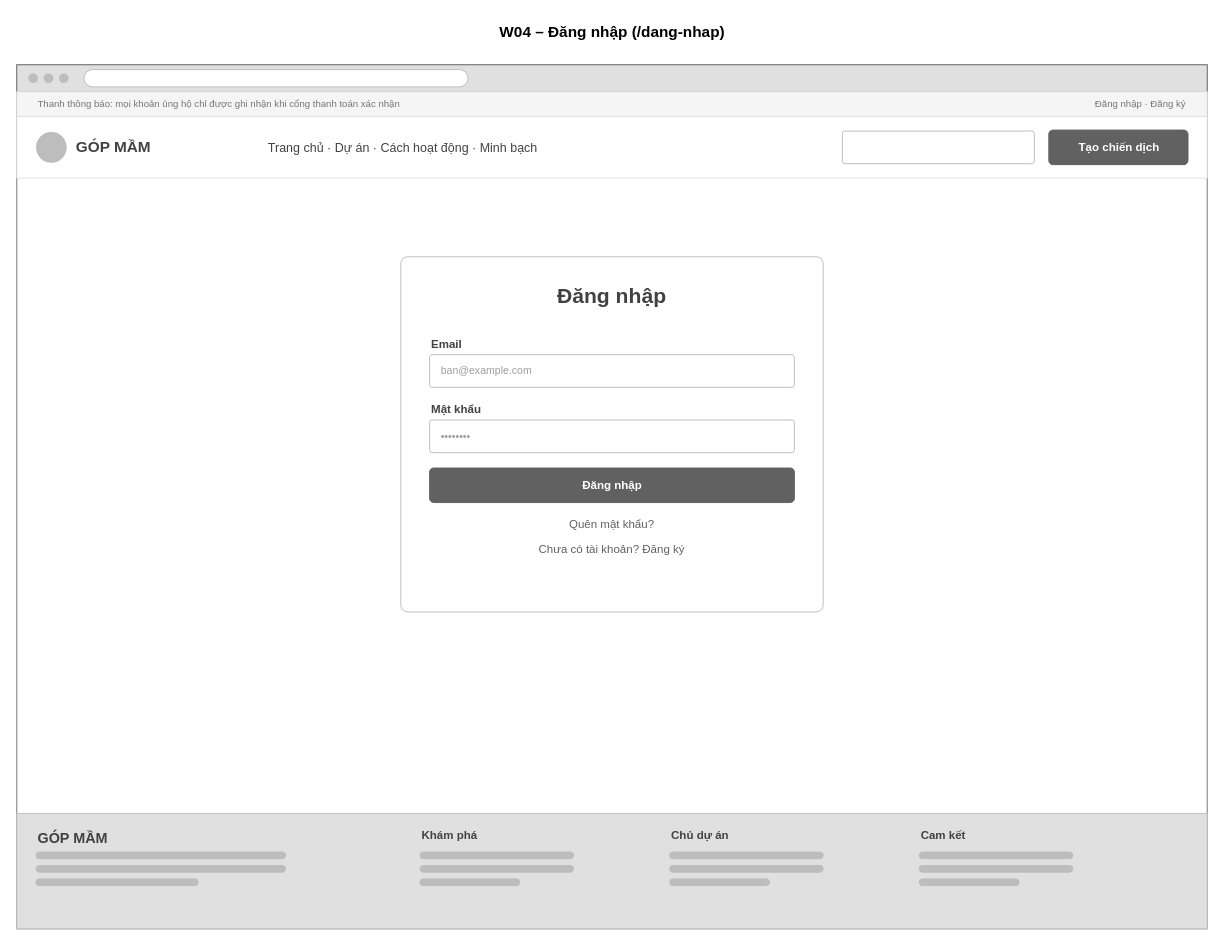
Image size: 1224x946. Some labels were removed from this diagram. The shapes that lost their labels are listed below. From the top down, each one's centre as x and y in pixels, then its label:
At (x=275, y=78): "https://gopmam.com".
At (x=937, y=147): "Tìm dự án…".
